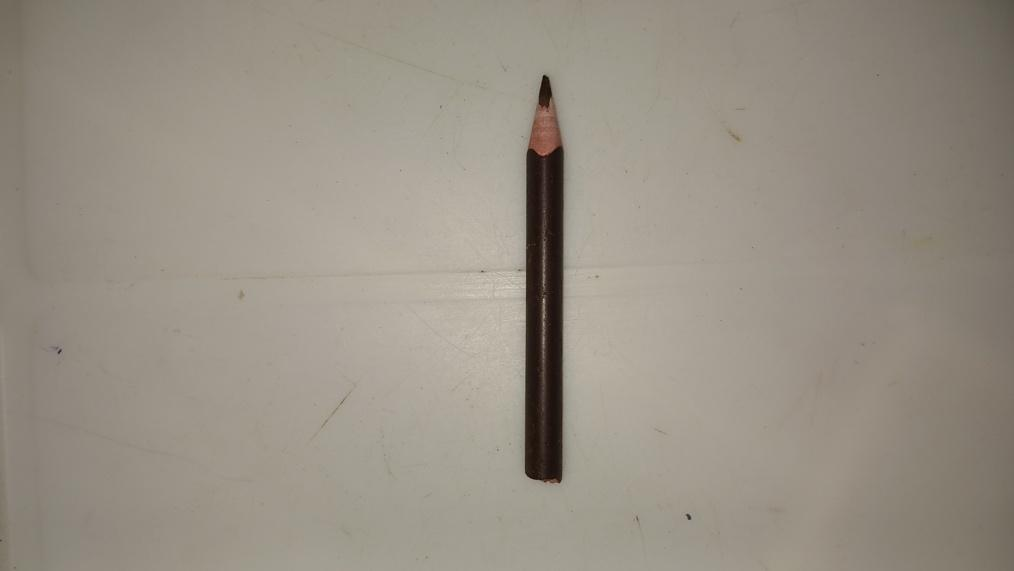Pencil: (526, 69, 565, 482)
